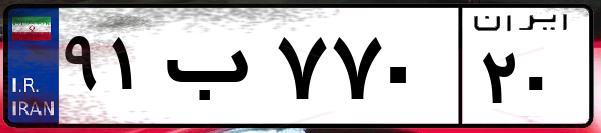0: (385, 28, 445, 110), (525, 38, 570, 115)
1: (110, 28, 158, 98)
2: (475, 38, 525, 113)
7: (270, 28, 330, 110), (330, 28, 385, 110)
9: (57, 26, 110, 100)
ب: (158, 20, 270, 120)
